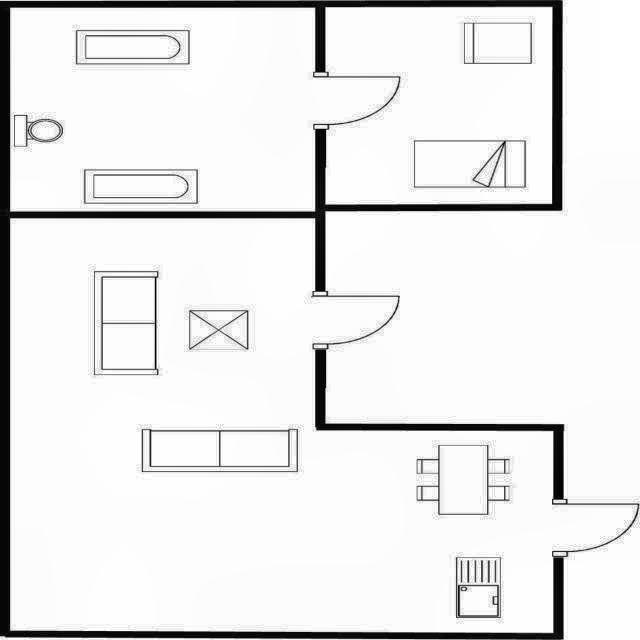room: (8, 216, 556, 634), (11, 8, 314, 211), (326, 7, 552, 204)
